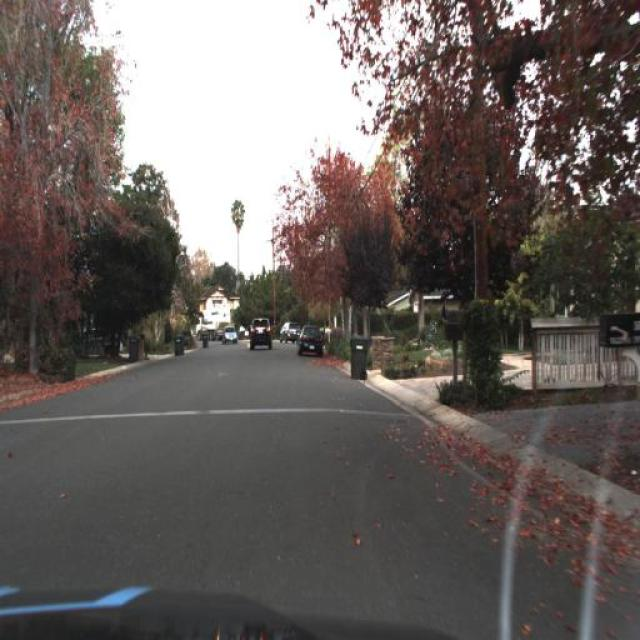car: (244, 313, 274, 352), (295, 323, 324, 355), (281, 322, 299, 343), (221, 326, 237, 346)
